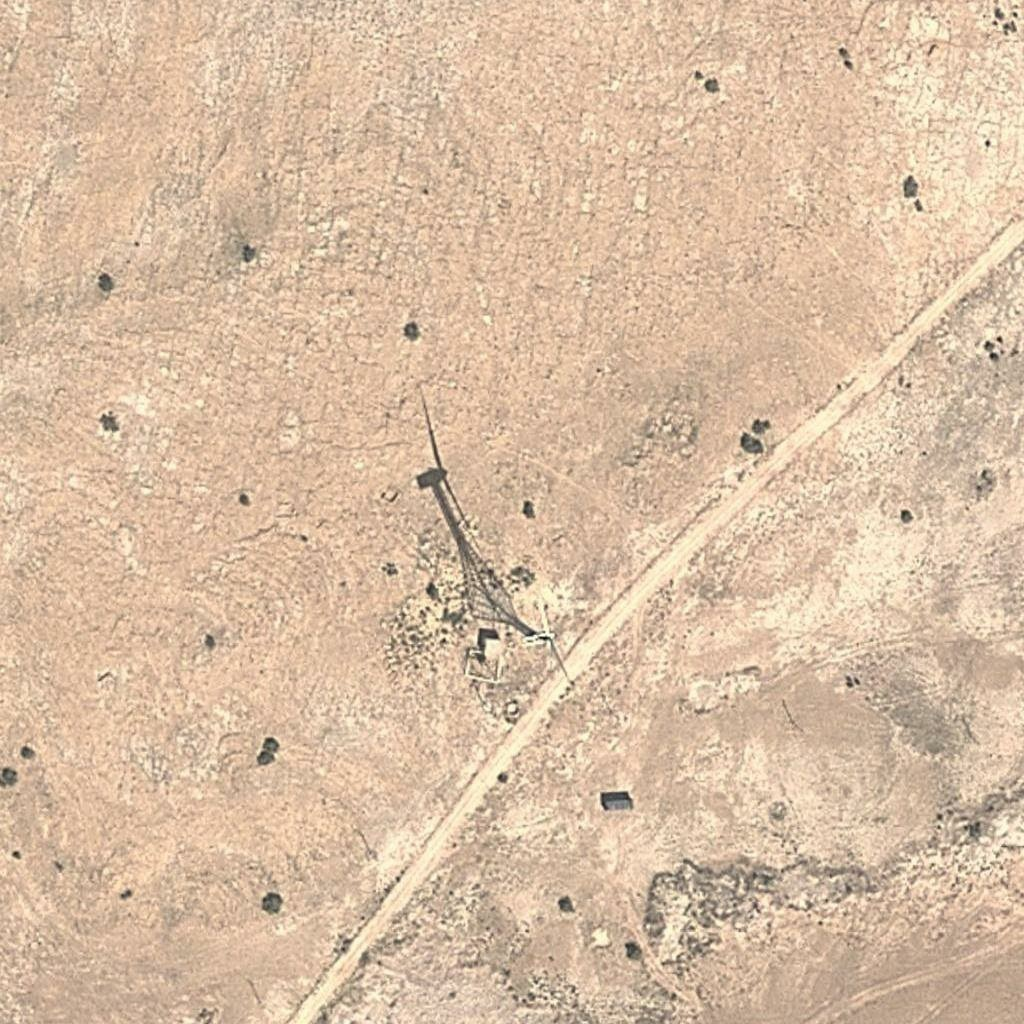Windmill: (395, 410, 541, 628)
